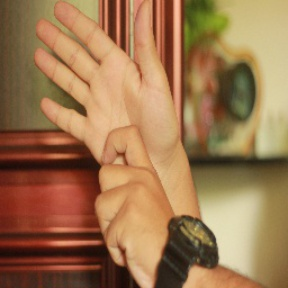R: (33, 4, 179, 262)
